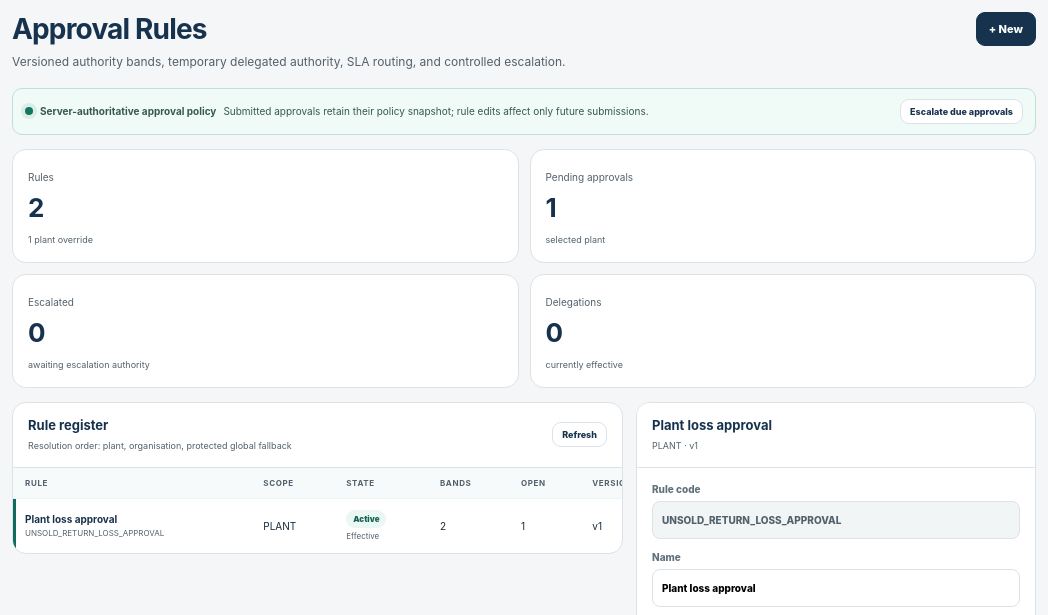
Test case: approval governance workspace › runs controlled overdue escalation and reports the affected count
The width and height of the screenshot is (1048, 615).
Expected: the heading "Plant loss approval" is shown, top-left (652, 417), bottom-right (772, 433)
Click the button "Escalate due approvals": (962,111) top-left (900, 99), bottom-right (1023, 124)
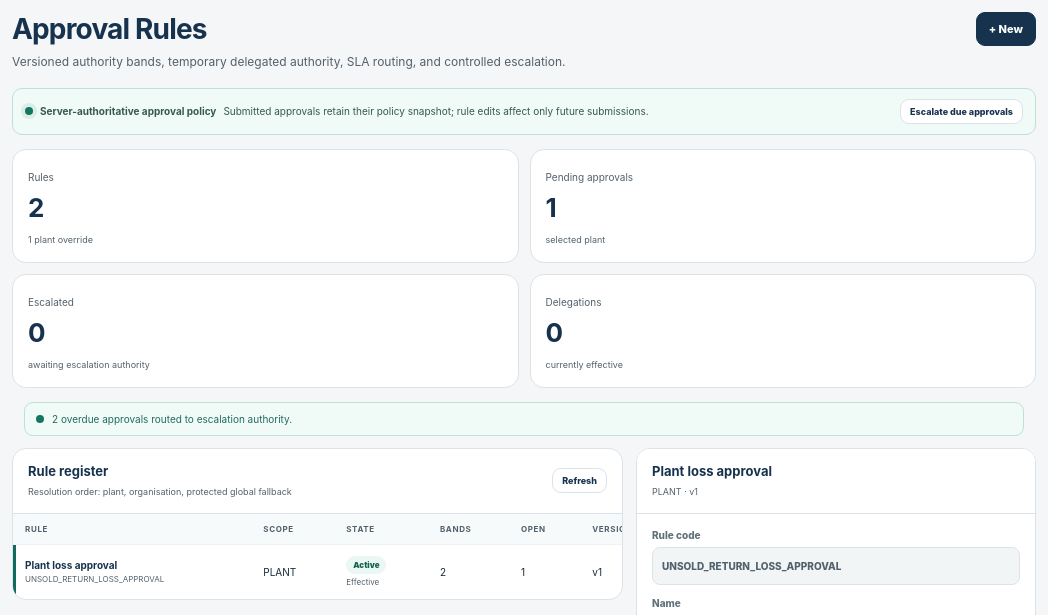
Expected: the message shows "2 overdue approvals routed", top-left (52, 413), bottom-right (292, 425)
